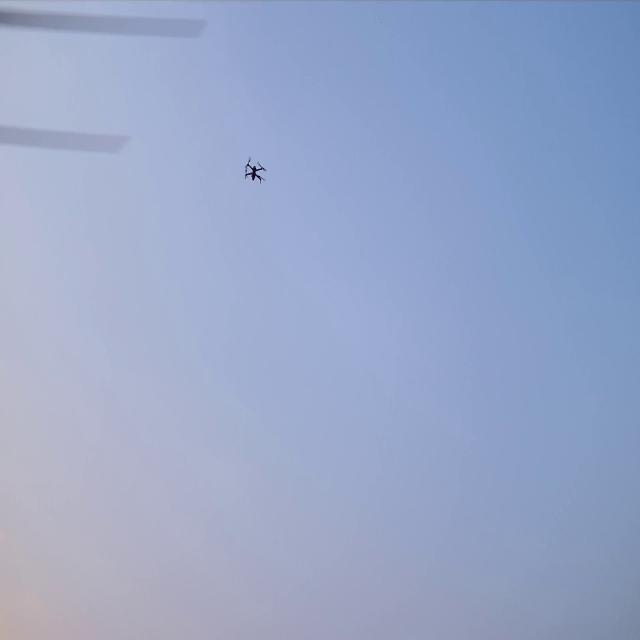UAV: (242, 153, 267, 184)
